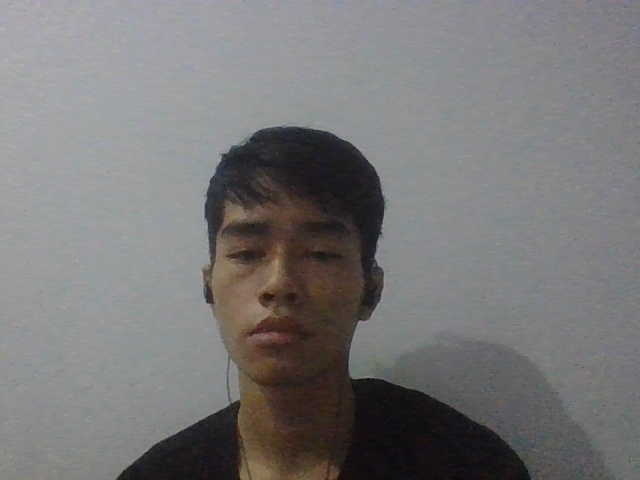real: (185, 108, 390, 398)
